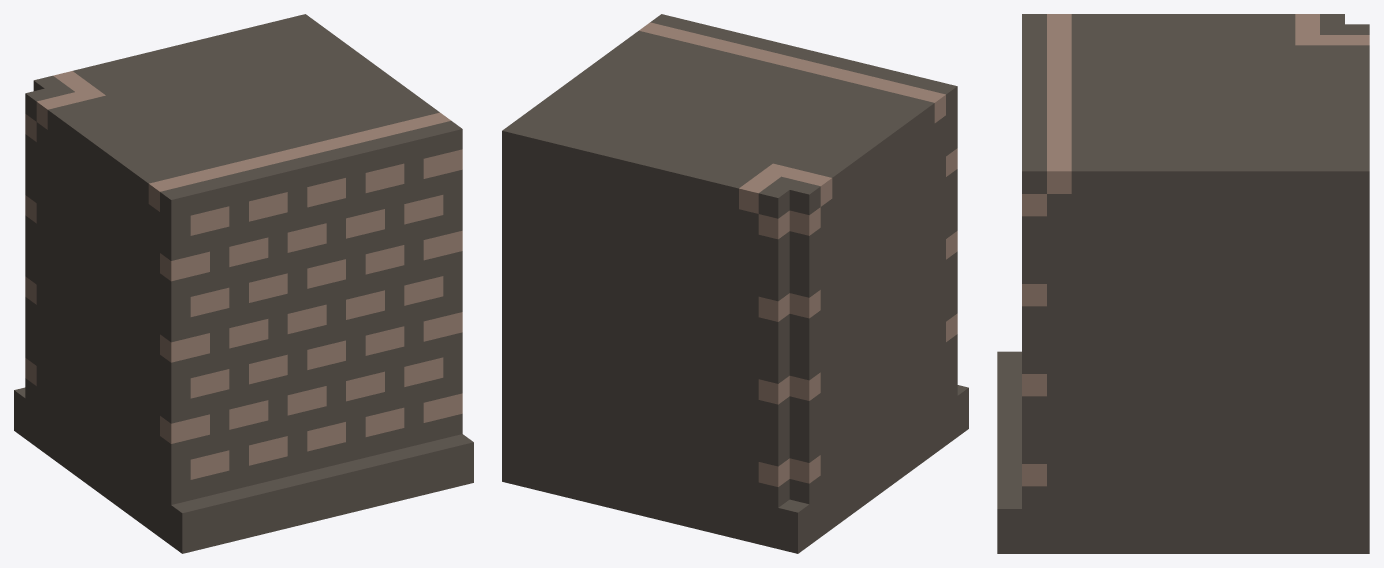
Rendered from dungeon_a_a_outer_wall_segment_c.obj.
The picture shows the model from 3 angles, left to right: view 1: azimuth 30°, elevation 25°; view 2: azimuth 150°, elevation 25°; view 3: azimuth 270°, elevation 25°; orthographic projection. The views are drawn at different scales.
Bounding box in the file's own units: 1.5 × 1.7 × 1.5.
Materials: 1 (1 with a texture image).
